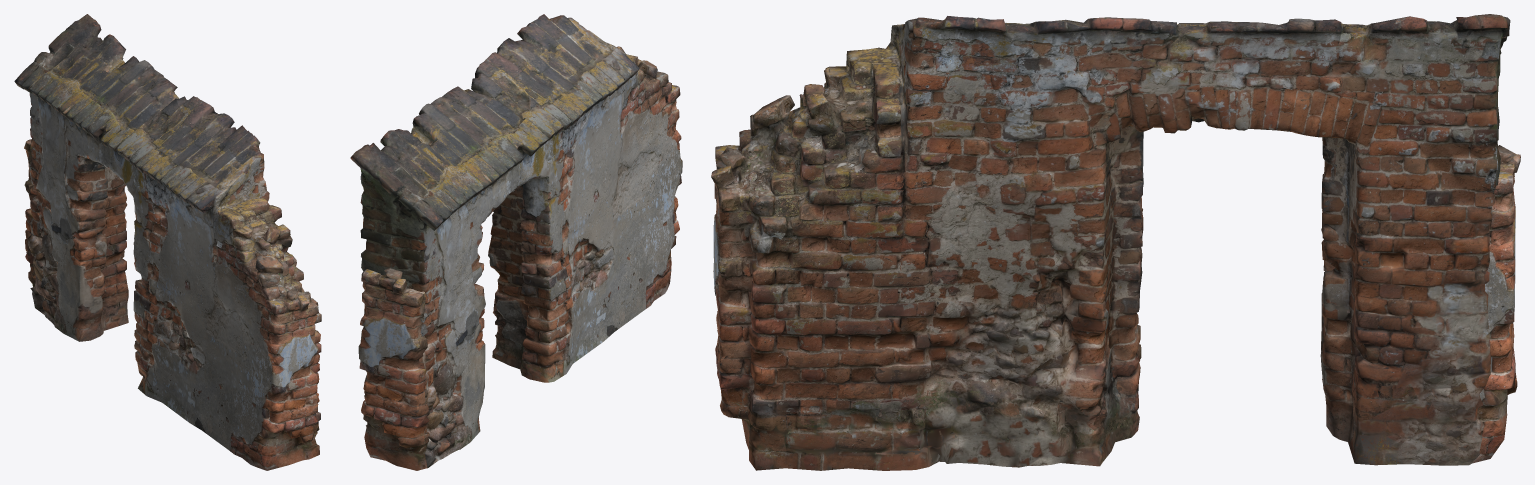
The model's file is sm_EntranceWalls_01_02.fbx.
3 views of the same model, side by side, from view 1: azimuth 30°, elevation 25°; view 2: azimuth 150°, elevation 25°; view 3: azimuth 270°, elevation 25° (orthographic). The views are drawn at different scales.
Visible parts, largest first — view 1: sm_EntranceWalls_01_02_LOD0; view 2: sm_EntranceWalls_01_02_LOD0; view 3: sm_EntranceWalls_01_02_LOD0.
Boxes of the visible parts, <box> form: sm_EntranceWalls_01_02_LOD0: <box>14,14,321,470</box>; sm_EntranceWalls_01_02_LOD0: <box>350,14,682,470</box>; sm_EntranceWalls_01_02_LOD0: <box>711,14,1520,470</box>.
Bounding box in the file's own units: 80.65 × 428 × 263.
